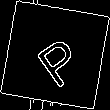P_NW: (25, 24, 85, 86)
